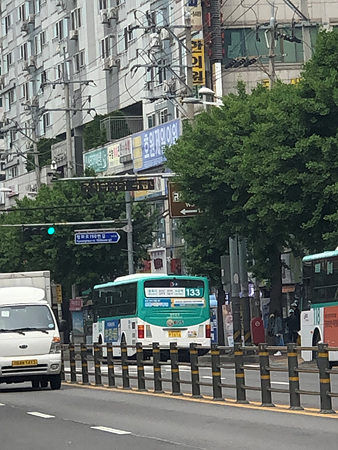bnum: (183, 288, 203, 297)
